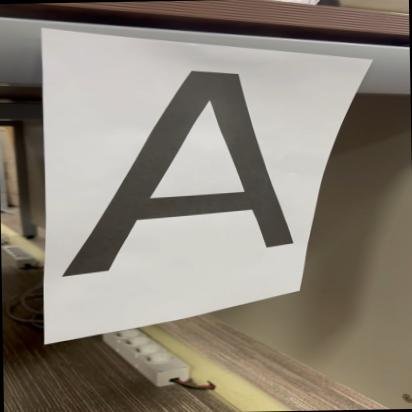seat: (47, 60, 302, 278)
